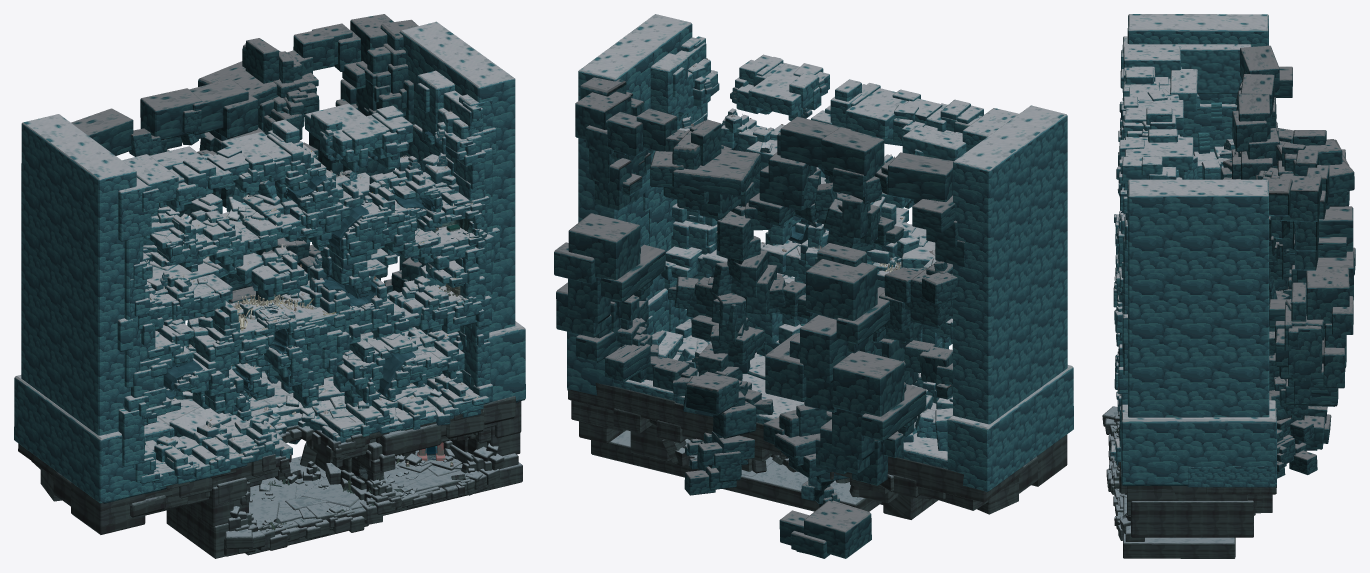
3 renders of one model, left to right at view 1: azimuth 30°, elevation 25°; view 2: azimuth 150°, elevation 25°; view 3: azimuth 270°, elevation 25°, orthographic. The views are drawn at different scales.
Bounding box in the file's own units: 148 × 136 × 84.83.
29 materials, 29 textured.
